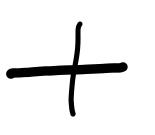plus: (6, 21, 128, 116)
